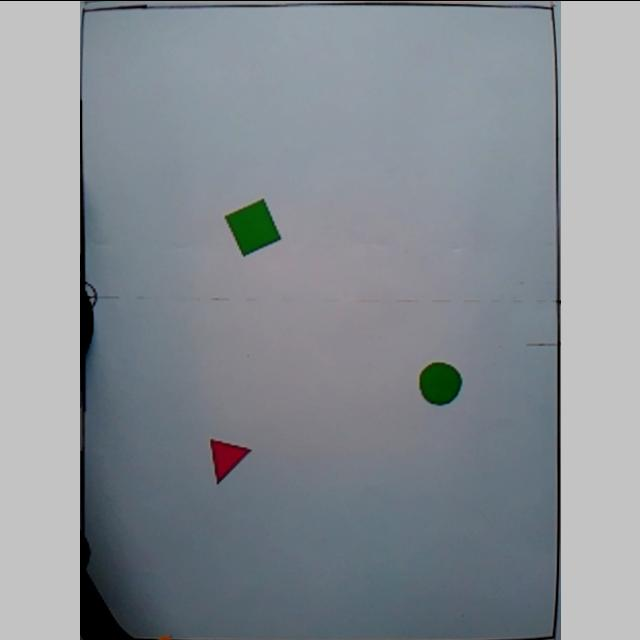greenCircle: (414, 359, 464, 406)
greenSquare: (222, 196, 282, 258)
pinkTriangle: (206, 438, 252, 486)
